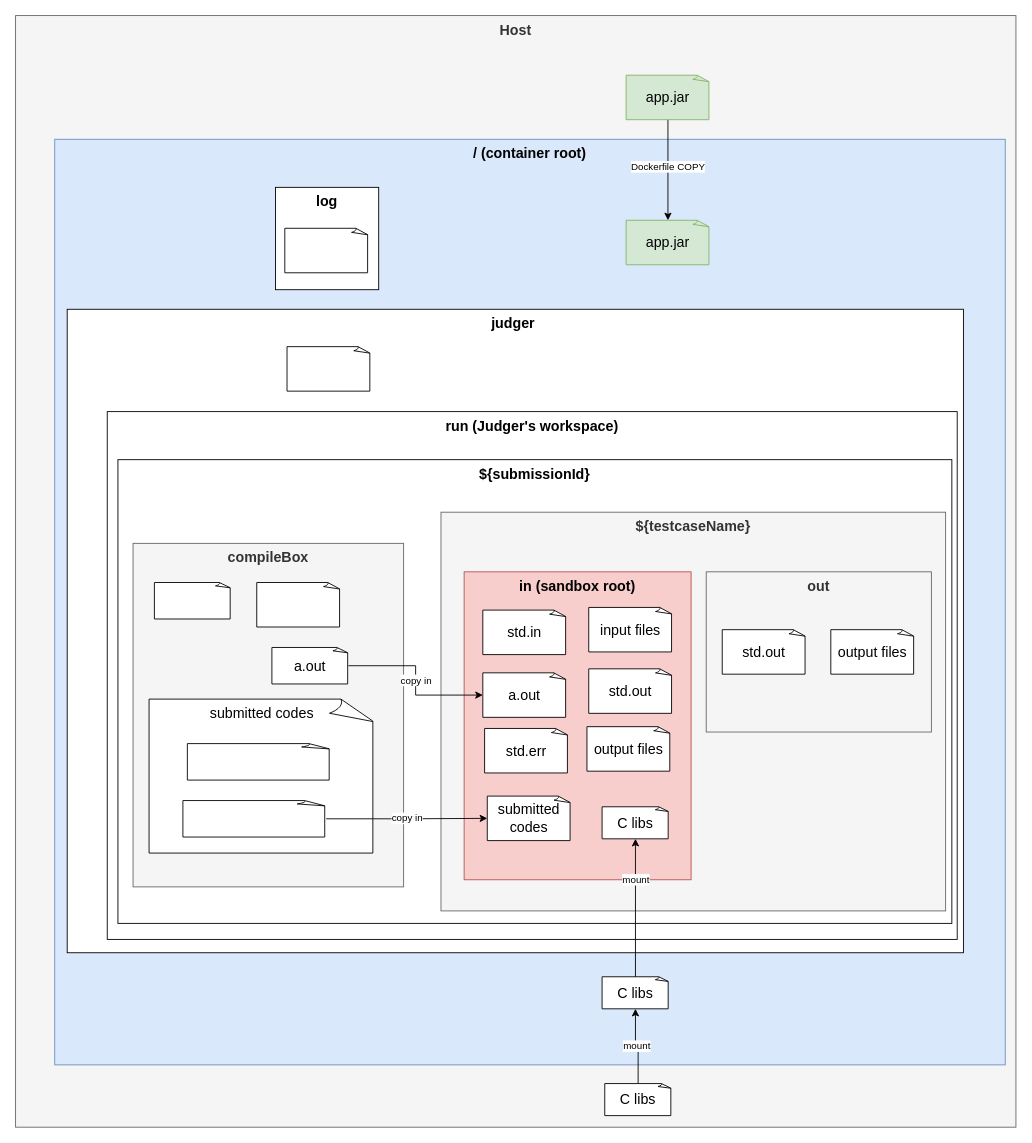
Some shapes in this 1032 by 1143 pixel diagram are drawn without their labels. Here are the shapes that lost their labels. From the top down, the centre of each, then its label:
the point at 326,250: logPath
the point at 328,368: profiler
the point at 192,600: compile.sh
the point at 298,604: provided codes
the point at 258,761: compile-language submitted codes
the point at 254,818: interpreted-language submitted codes
